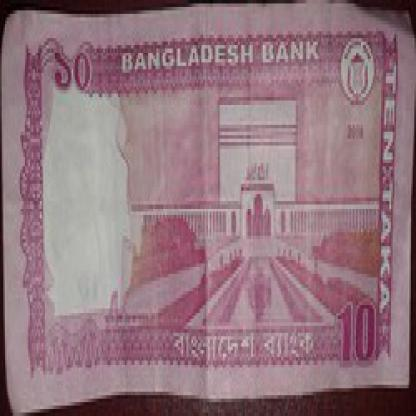Ten Taka: (335, 291, 381, 368), (48, 42, 102, 100)
